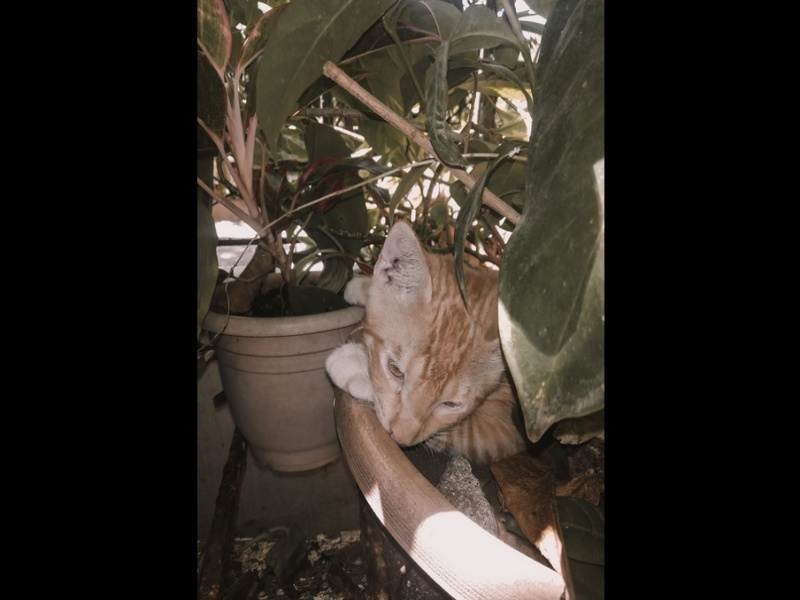cat: (326, 219, 567, 473)
